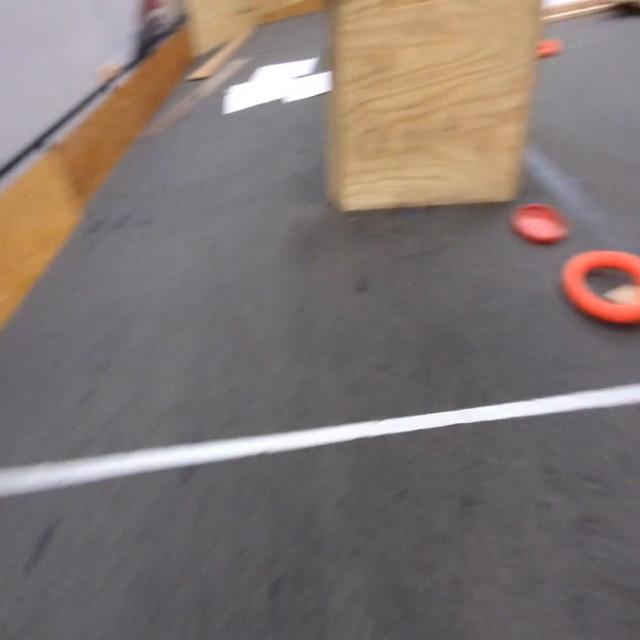note: (559, 251, 639, 325), (536, 40, 566, 59)
